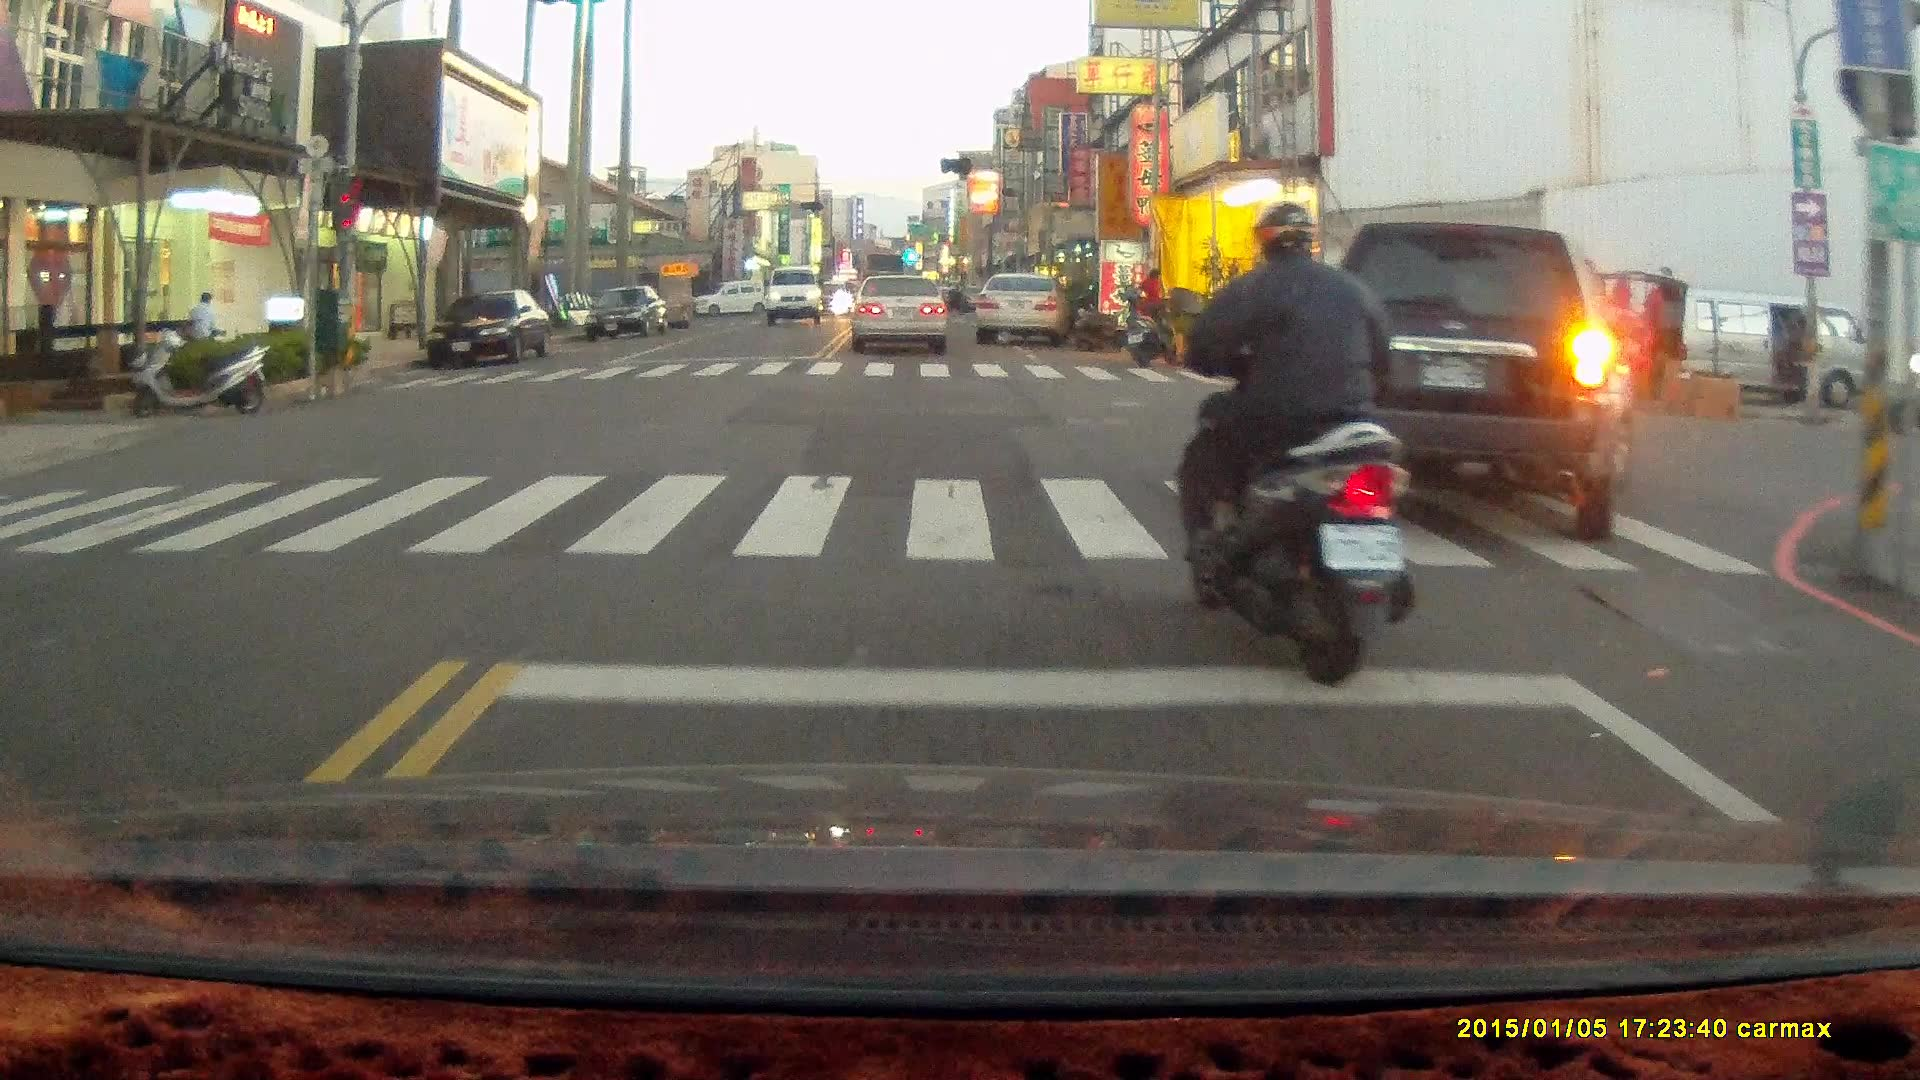pedestrian: (1132, 266, 1164, 355), (186, 291, 223, 356), (1788, 310, 1813, 401)
rider: (1173, 205, 1421, 703)
vehicle: (1308, 222, 1641, 539), (1622, 286, 1887, 416), (426, 287, 553, 370), (850, 276, 953, 355), (975, 266, 1072, 344), (585, 285, 671, 342), (767, 267, 826, 328)
